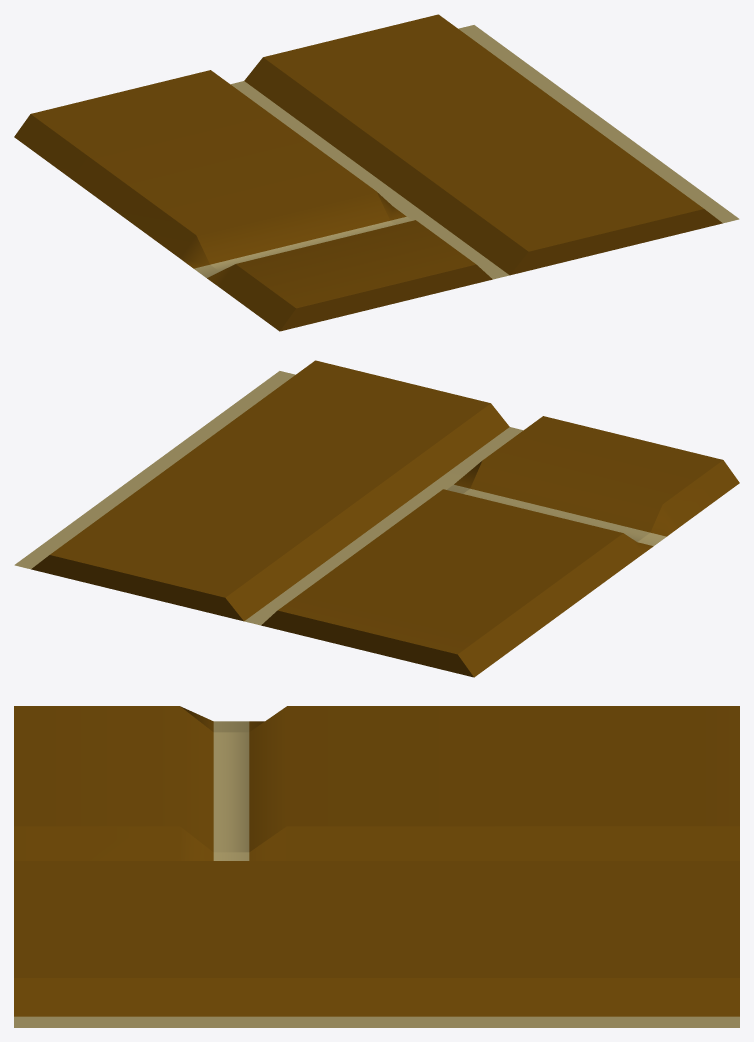
Rendered from PlancheC.fbx.
The picture shows the model from 3 angles, top to bottom: view 1: azimuth 30°, elevation 25°; view 2: azimuth 150°, elevation 25°; view 3: azimuth 270°, elevation 25°; orthographic projection. The views are drawn at different scales.
Visible parts, largest first — view 1: pPlane1; view 2: pPlane1; view 3: pPlane1.
Boxes of the visible parts, box(x1,y1,x2,y2) form: pPlane1: box(14, 14, 739, 331); pPlane1: box(14, 360, 739, 677); pPlane1: box(14, 706, 739, 1027).
Size of the model in its own units: 1 by 0.0399 by 1.
